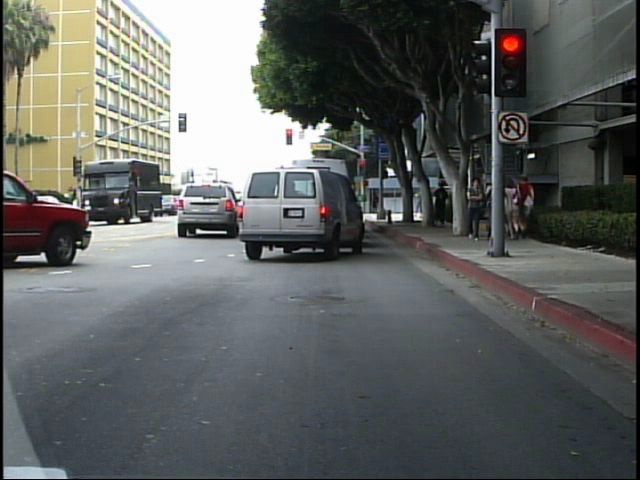person: (518, 171, 541, 245), (503, 170, 524, 244), (467, 175, 487, 242), (432, 175, 452, 230), (412, 185, 424, 217)
